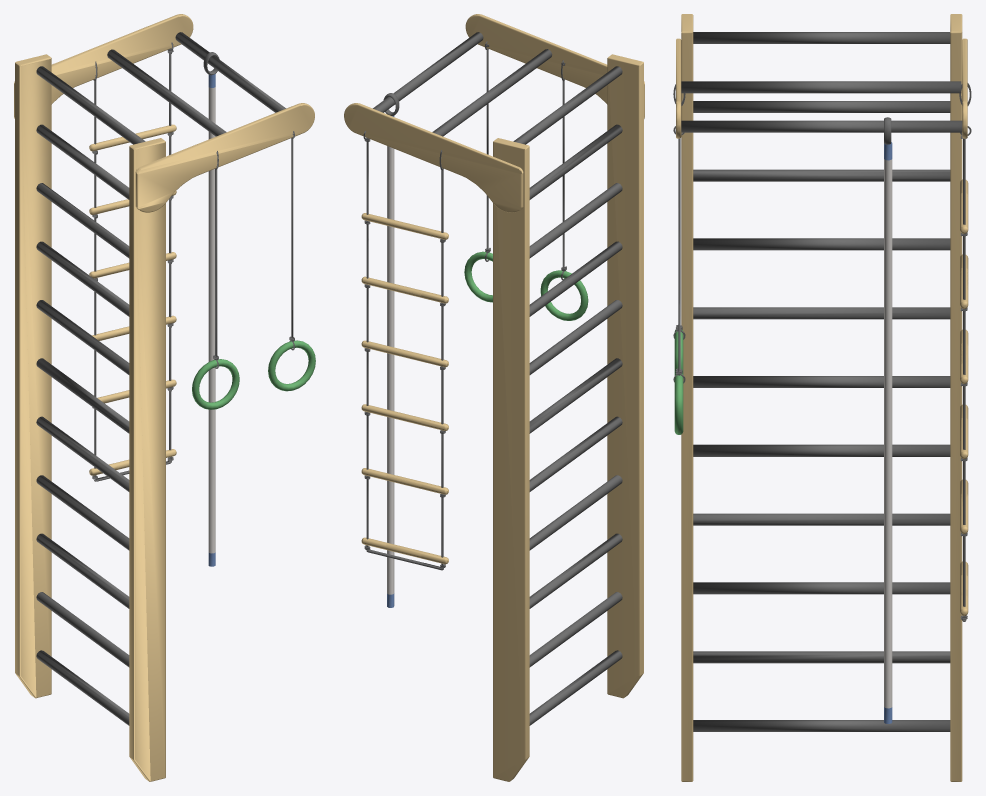
The picture shows the model from 3 angles, left to right: view 1: azimuth 30°, elevation 25°; view 2: azimuth 150°, elevation 25°; view 3: azimuth 270°, elevation 25°; orthographic projection. The views are drawn at different scales.
Visible parts, largest first — view 1: 3DSMeshMatrix; view 2: 3DSMeshMatrix; view 3: 3DSMeshMatrix.
Part boxes in pixels (box(x1,y1,x2,y2)): 3DSMeshMatrix: box(14, 14, 315, 781); 3DSMeshMatrix: box(344, 14, 644, 781); 3DSMeshMatrix: box(673, 14, 971, 781).
Bounding box in the file's own units: 71.14 × 242 × 86.4.
